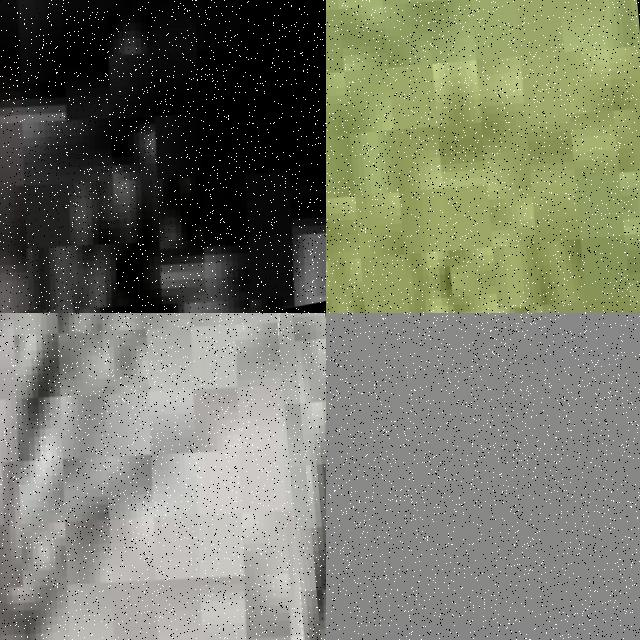drone: (0, 0, 326, 313), (0, 313, 312, 640)
